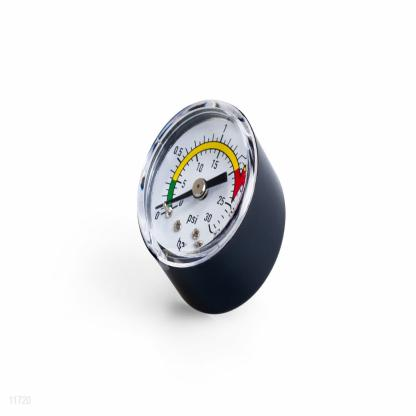needle: (155, 190, 193, 211)
